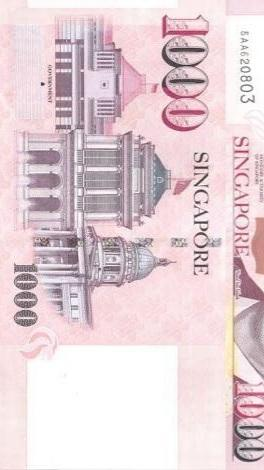1000SingaporeDollar: (0, 0, 231, 470)
